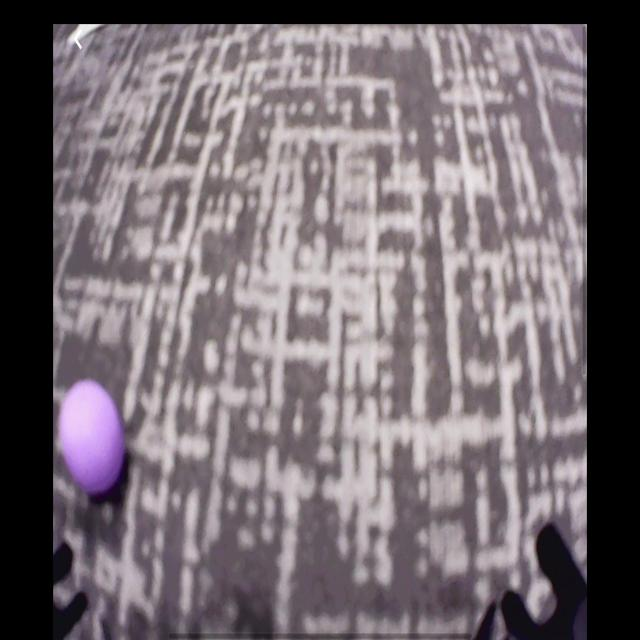ball: (59, 379, 126, 494)
